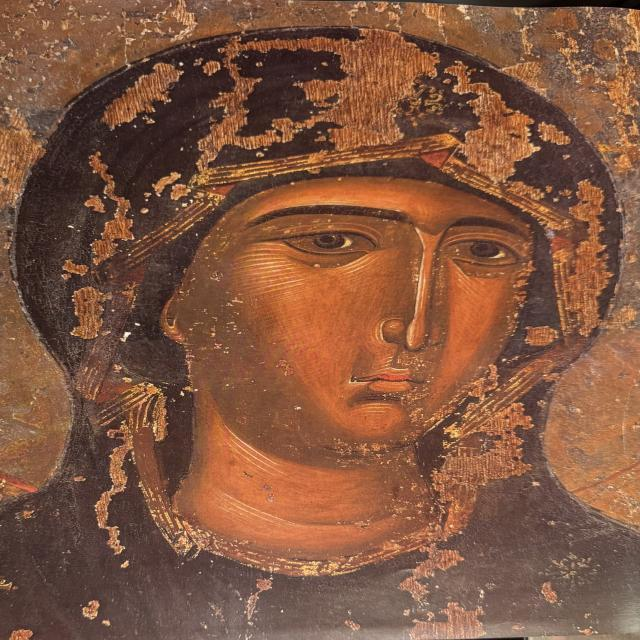mary: (14, 24, 622, 638)
